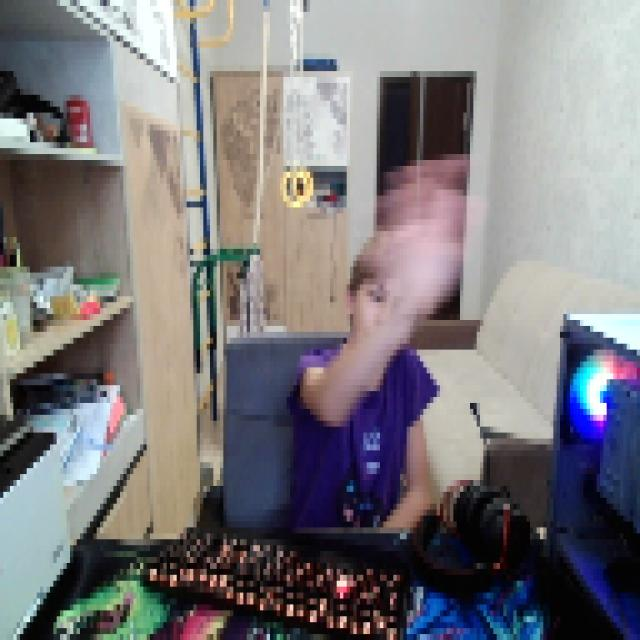hand: (373, 148, 467, 314)
